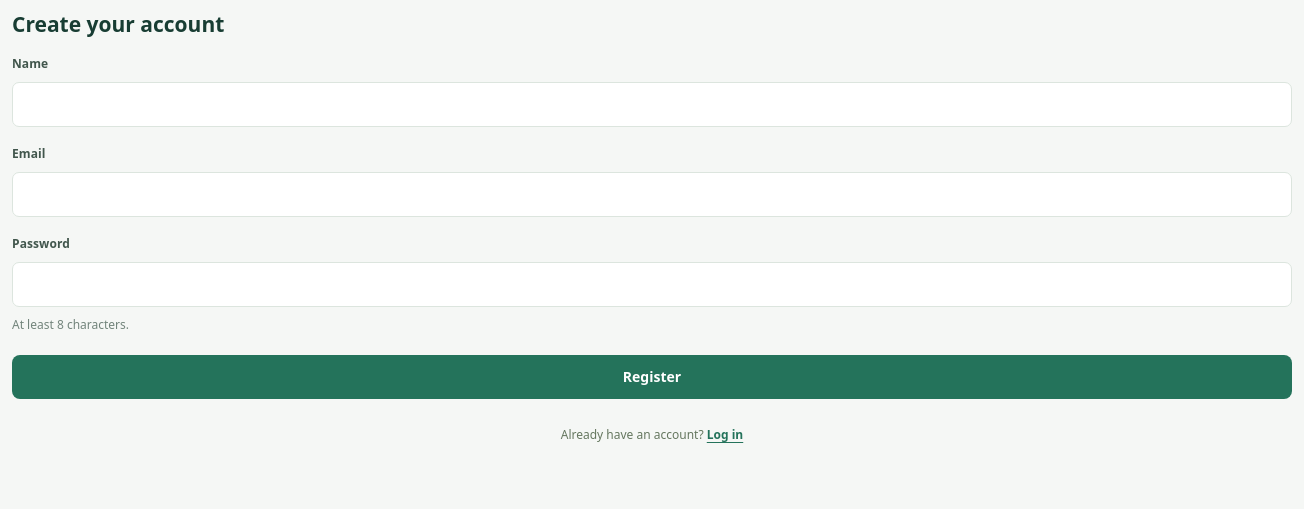
Test: RegisterForm › shows API and generic registration errors
Type "New User" into the field labelled "Name" at (652, 105), box [12,82,1292,127]
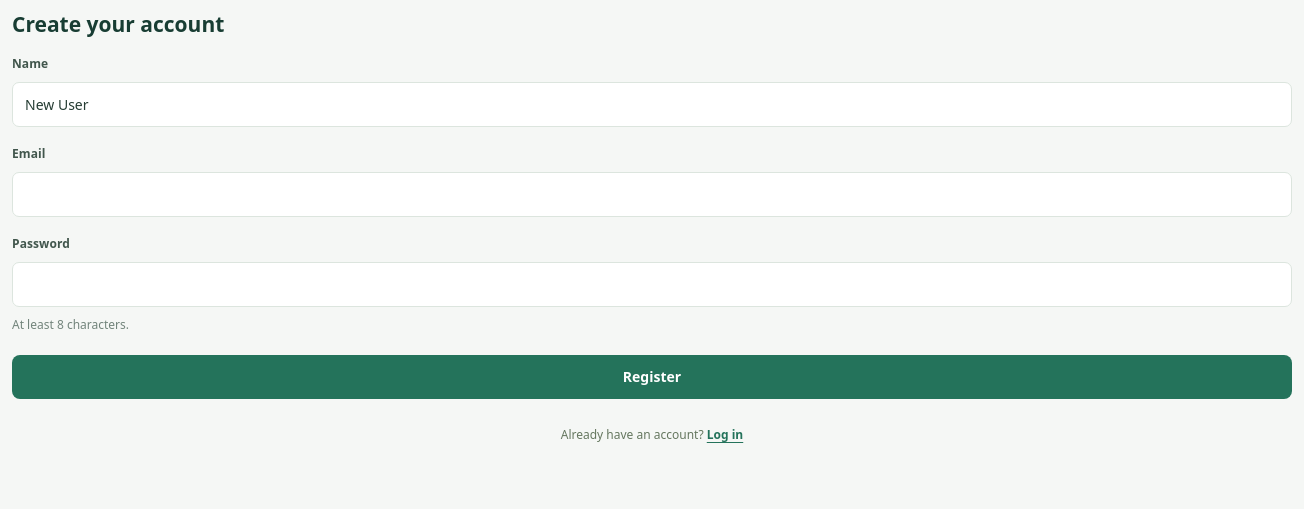
Type "new@example.test" into the field labelled "Email" at (652, 195), box [12,172,1292,217]
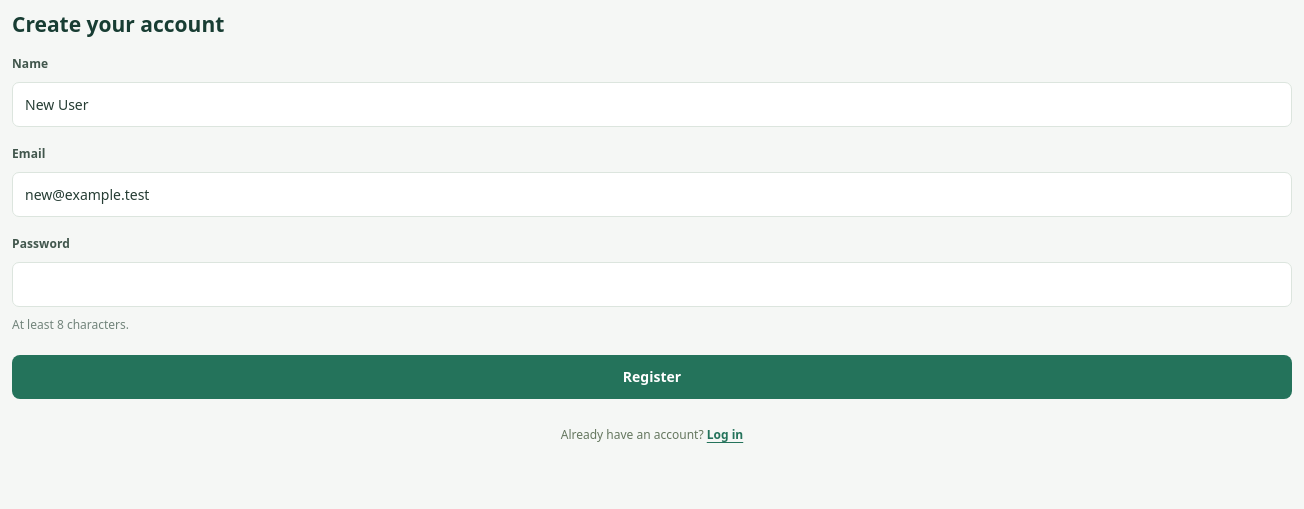
Type "password123" into the password field labelled "Password" at (652, 285), box [12,262,1292,307]
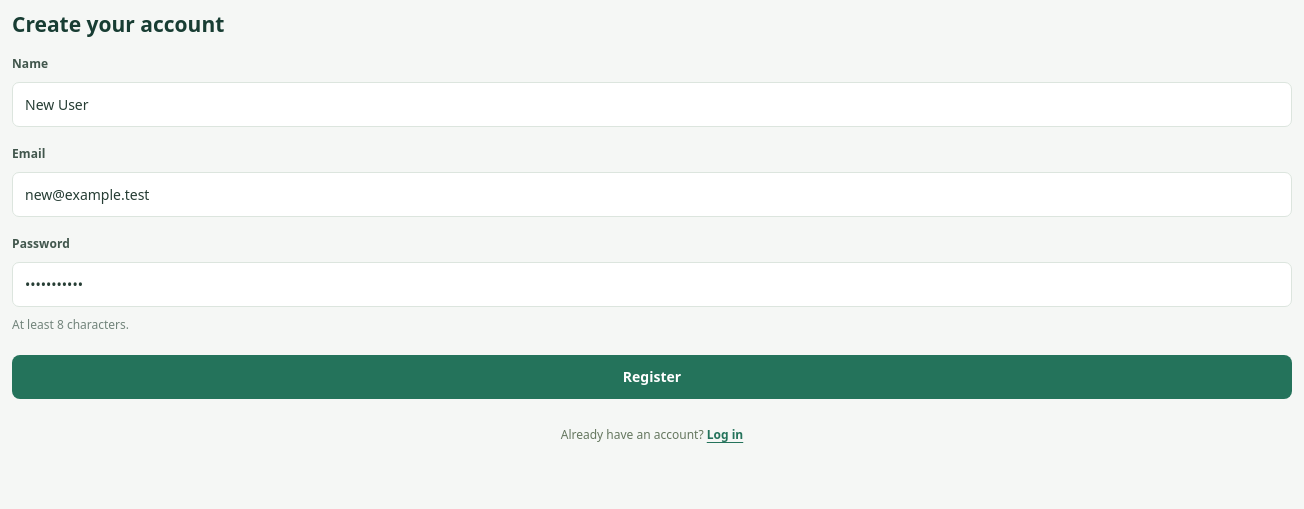
Click the button "Register" at (652, 377), box [12,355,1292,399]
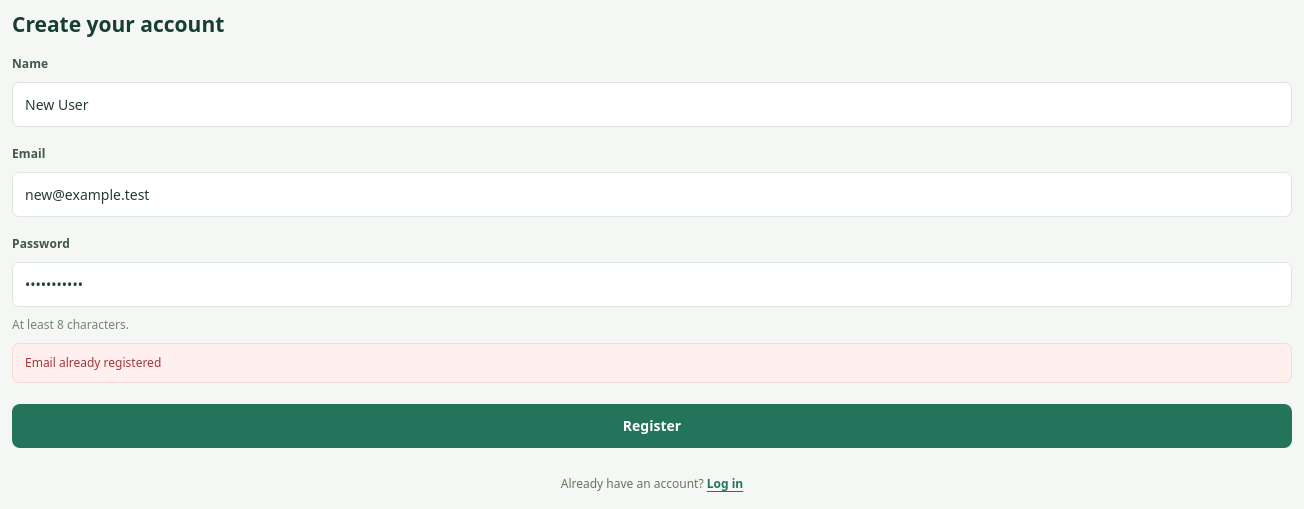
Expected: the message reads "Email already registered", [25,354,161,371]
Click the button "Register" at (652, 426), box [12,404,1292,448]
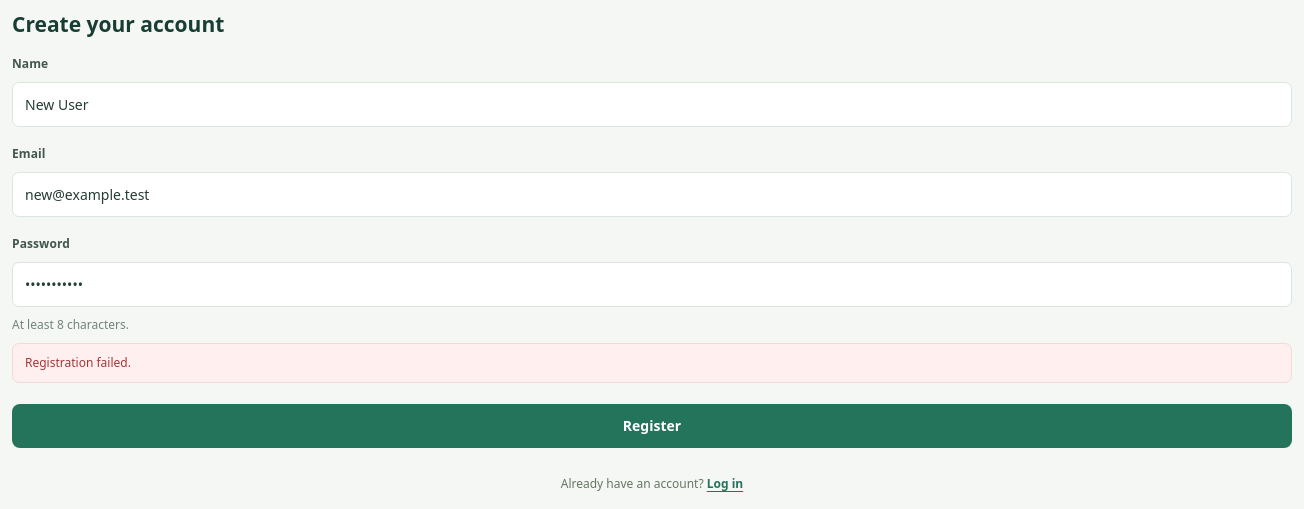
Expected: the message reads "Registration failed.", [25,354,131,371]
